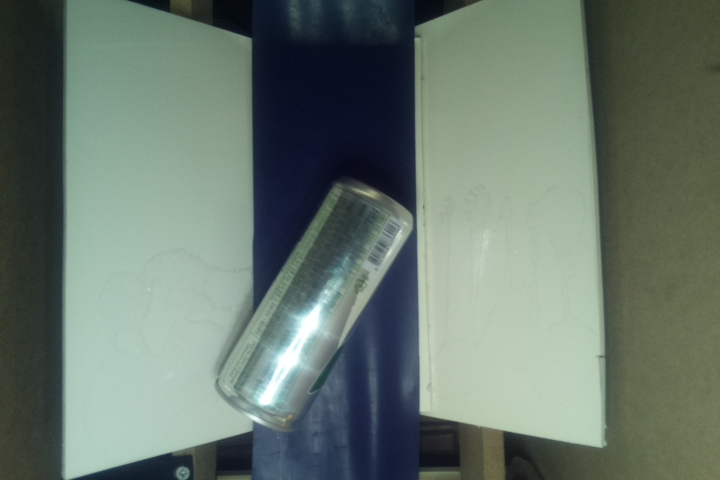can: (216, 177, 415, 434)
